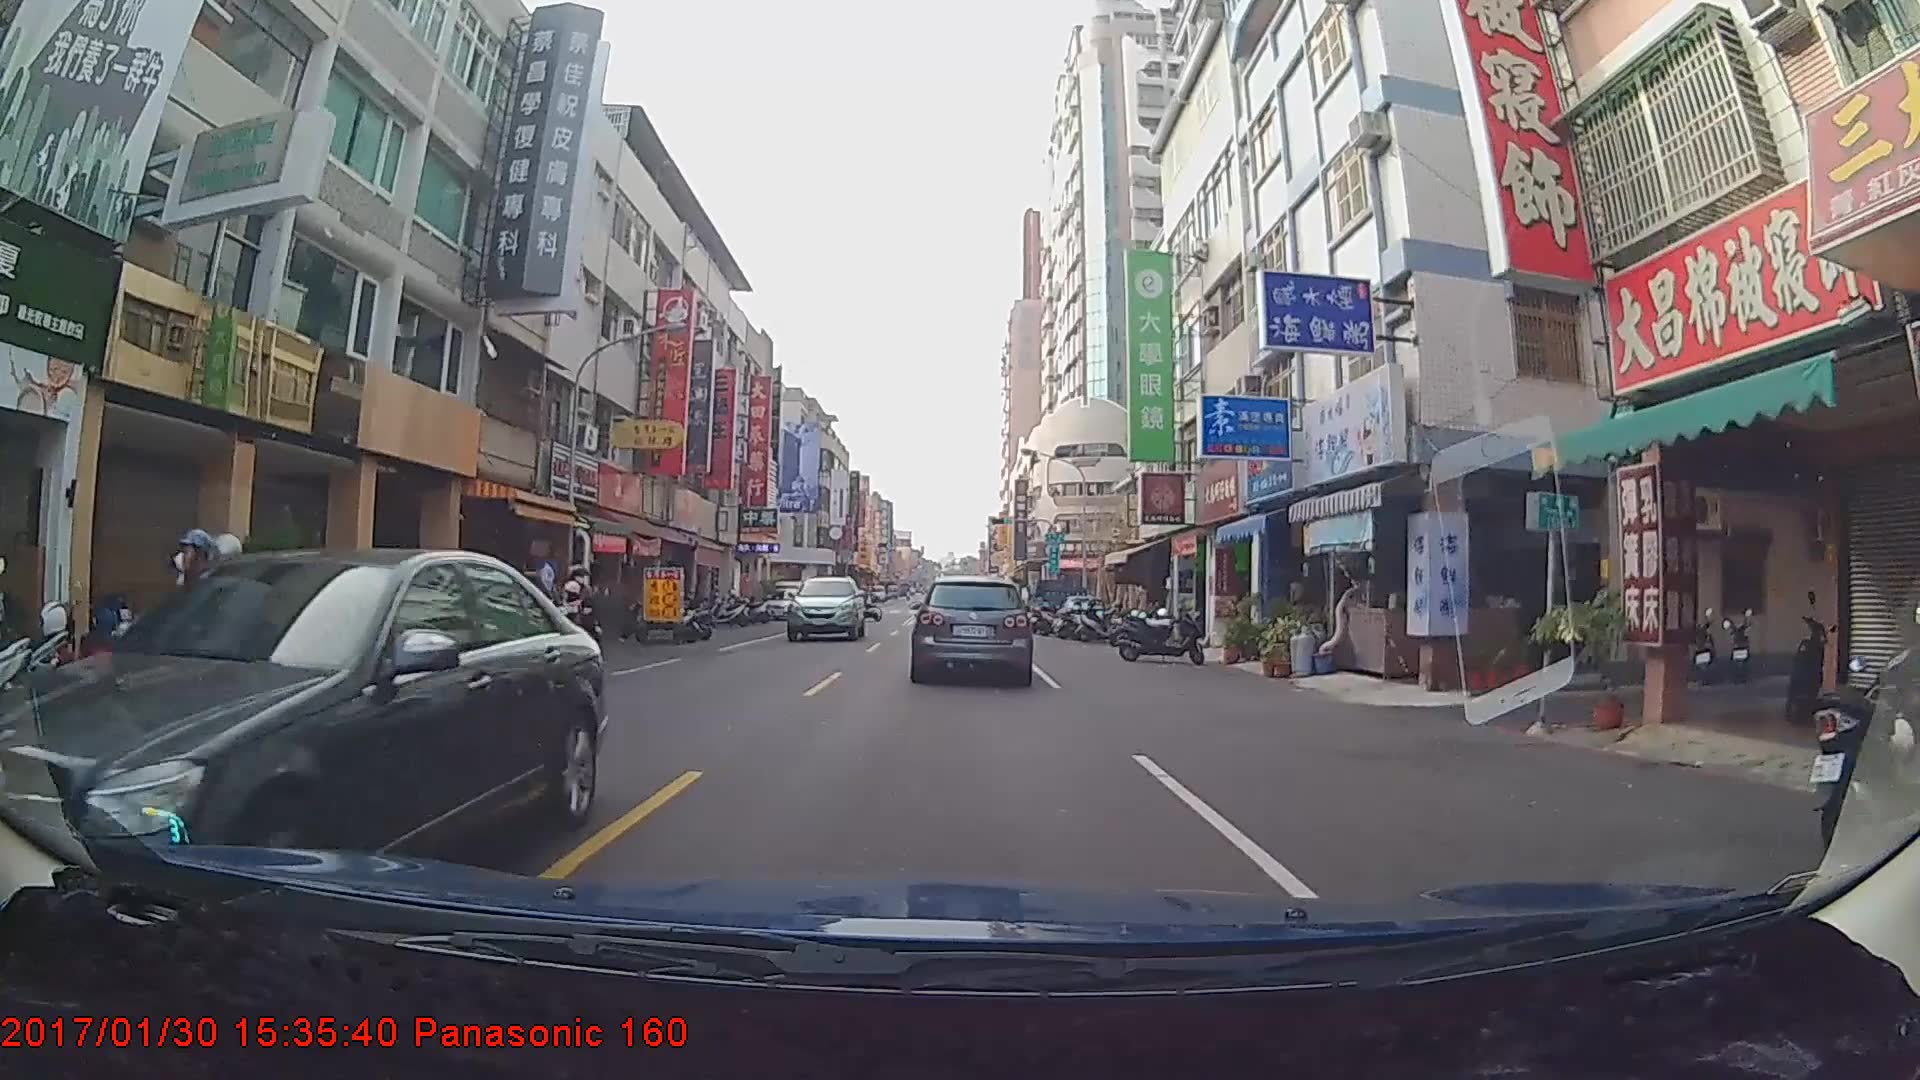vehicle: (0, 543, 607, 934), (911, 576, 1030, 684), (785, 575, 865, 644), (1025, 574, 1083, 625)
